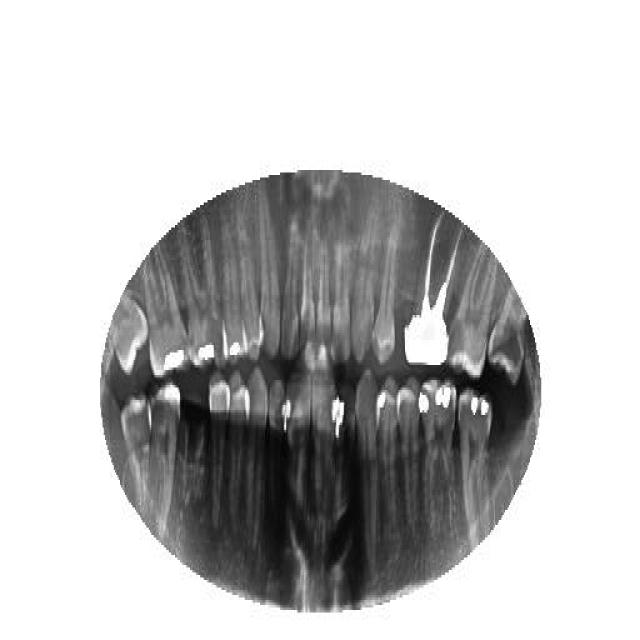Cavity: (488, 280, 530, 390)
Fillings: (180, 213, 230, 375), (418, 375, 458, 537), (141, 247, 191, 375), (457, 388, 495, 552), (220, 205, 248, 367)
Impacted Tooth: (110, 290, 146, 375)
Implant: (406, 207, 464, 365)
